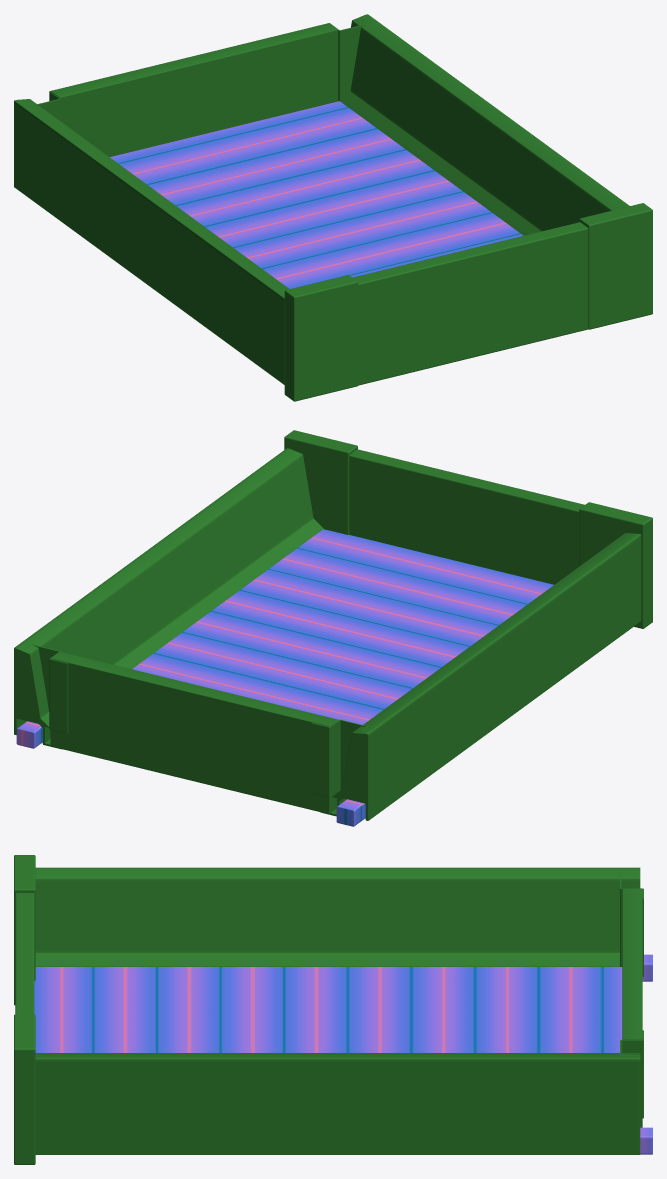
Rendered from SM_Kitchen_02_Drawer_01.fbx.
3 views of the same model, one above another, from view 1: azimuth 30°, elevation 25°; view 2: azimuth 150°, elevation 25°; view 3: azimuth 270°, elevation 25° (orthographic). The views are drawn at different scales.
Visible parts, largest first — view 1: SM_Kitchen_02_Drawer_01; view 2: SM_Kitchen_02_Drawer_01; view 3: SM_Kitchen_02_Drawer_01.
Boxes of the visible parts, left/top/right/bottom form: SM_Kitchen_02_Drawer_01: left=14, top=14, right=652, bottom=401; SM_Kitchen_02_Drawer_01: left=14, top=430, right=652, bottom=826; SM_Kitchen_02_Drawer_01: left=14, top=855, right=652, bottom=1164.
Bounding box in the file's own units: 36.2 × 10.1 × 50.29.
Materials: 3 (2 with a texture image).
